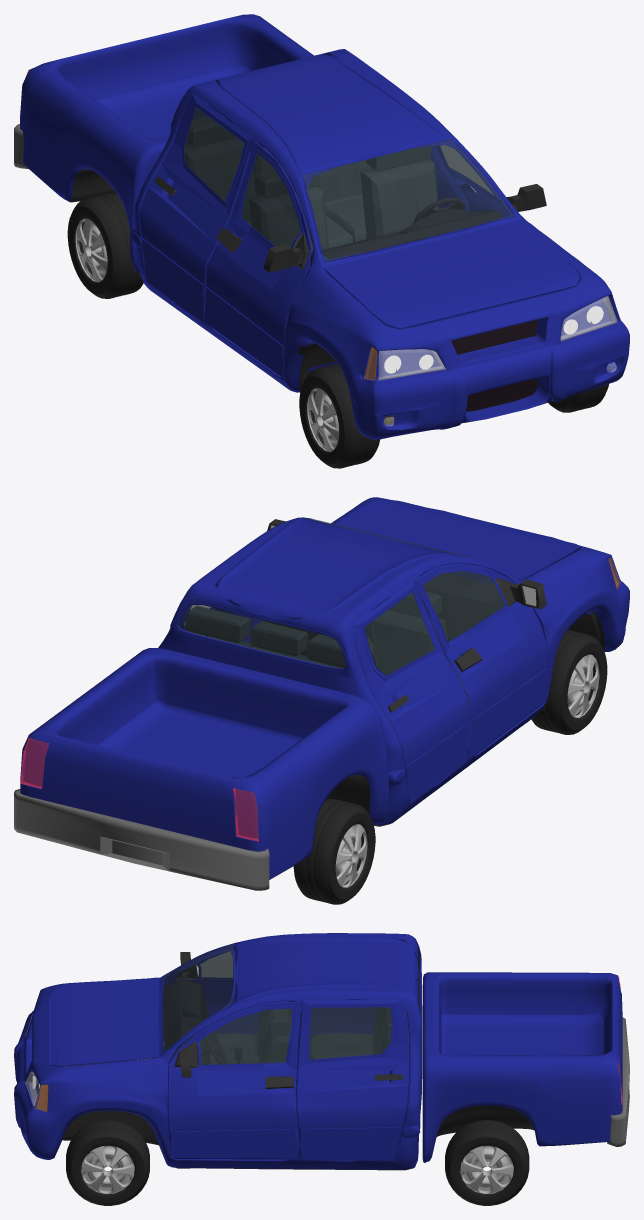
The model's file is car_traffic_pickup_1.glb.
3 renders of one model, top to bottom at view 1: azimuth 30°, elevation 25°; view 2: azimuth 150°, elevation 25°; view 3: azimuth 270°, elevation 25°, orthographic. The views are drawn at different scales.
Visible parts, largest first — view 1: Object_2, Object_11, Object_20, Object_13_rr, Object_13_fr, Object_7, Object_19, Object_16, Object_12, Object_3, Object_4_rr, Object_4_fr (+2 smaller); view 2: Object_2, Object_11, Object_14, Object_20, Object_13_rr, Object_13_fr, Object_19, Object_5, Object_3, Object_12, Object_4_rr, Object_4_fr; view 3: Object_2, Object_11, Object_20, Object_13_rl, Object_13_fl, Object_3, Object_19, Object_4_fl, Object_4_rl, Object_12, Object_14, Object_21.
Part boxes in pixels (left/top/right/bottom): Object_2: left=20, top=14, right=629, bottom=440; Object_11: left=184, top=107, right=514, bottom=261; Object_20: left=184, top=116, right=438, bottom=252; Object_13_rr: left=67, top=193, right=143, bottom=298; Object_13_fr: left=299, top=363, right=380, bottom=468; Object_7: left=378, top=296, right=617, bottom=380; Object_19: left=305, top=208, right=502, bottom=277; Object_16: left=451, top=320, right=537, bottom=411; Object_12: left=154, top=176, right=546, bottom=272; Object_3: left=71, top=169, right=538, bottom=424; Object_4_rr: left=75, top=218, right=107, bottom=282; Object_4_fr: left=307, top=388, right=338, bottom=451; Object_2: left=20, top=497, right=629, bottom=879; Object_11: left=178, top=518, right=504, bottom=675; Object_14: left=14, top=789, right=269, bottom=890; Object_20: left=185, top=591, right=467, bottom=745; Object_13_rr: left=293, top=799, right=375, bottom=904; Object_13_fr: left=531, top=629, right=607, bottom=734; Object_19: left=365, top=572, right=505, bottom=665; Object_5: left=20, top=738, right=258, bottom=841; Object_3: left=326, top=611, right=604, bottom=826; Object_12: left=267, top=519, right=546, bottom=712; Object_4_rr: left=335, top=824, right=367, bottom=887; Object_4_fr: left=567, top=654, right=599, bottom=717; Object_2: left=14, top=933, right=622, bottom=1169; Object_11: left=162, top=944, right=419, bottom=1064; Object_20: left=210, top=1001, right=409, bottom=1064; Object_13_rl: left=445, top=1120, right=529, bottom=1205; Object_13_fl: left=66, top=1120, right=149, bottom=1205; Object_3: left=57, top=1076, right=534, bottom=1170; Object_19: left=164, top=978, right=241, bottom=1064; Object_4_fl: left=81, top=1145, right=134, bottom=1193; Object_4_rl: left=460, top=1145, right=513, bottom=1193; Object_12: left=174, top=952, right=402, bottom=1088; Object_14: left=607, top=1017, right=629, bottom=1146; Object_21: left=201, top=1032, right=227, bottom=1064.
Size of what is drawn, in the model's own units: 2.26 by 1.84 by 5.3.
